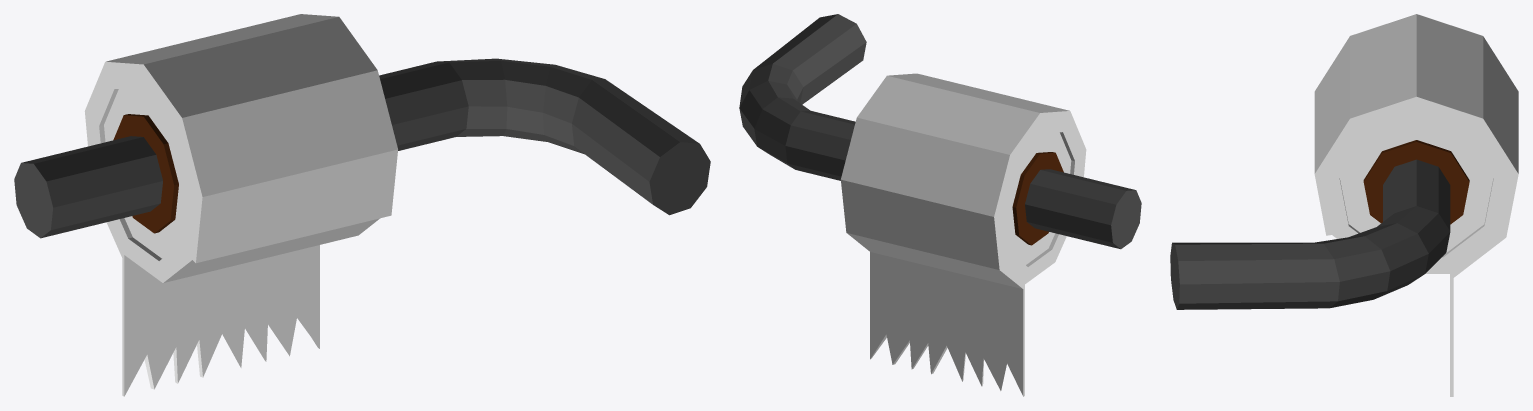
Rendered from Toilet Paper Holder 3.fbx.
The picture shows the model from 3 angles, left to right: view 1: azimuth 30°, elevation 25°; view 2: azimuth 150°, elevation 25°; view 3: azimuth 270°, elevation 25°; orthographic projection. The views are drawn at different scales.
Parts seen in each view (by area): view 1: Node 0; view 2: Node 0; view 3: Node 0.
Boxes of the visible parts, x1=… form: Node 0: x1=14, y1=14, x2=710, y2=396; Node 0: x1=739, y1=14, x2=1141, y2=396; Node 0: x1=1170, y1=14, x2=1518, y2=396.
Bounding box in the file's own units: 0.37 × 0.3519 × 0.5743.
